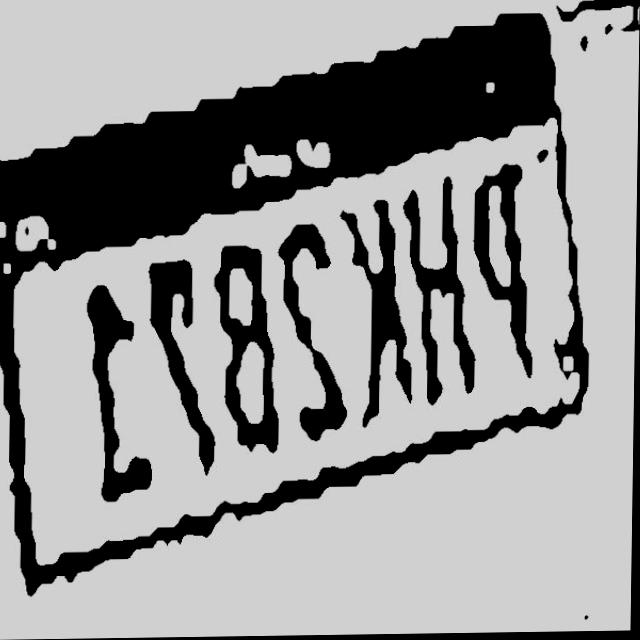1: (80, 276, 151, 506)
2: (282, 214, 350, 446)
7: (147, 249, 211, 487)
b: (216, 239, 283, 465)
h: (406, 173, 473, 412)
k: (350, 191, 414, 425)
p: (471, 158, 537, 391)
